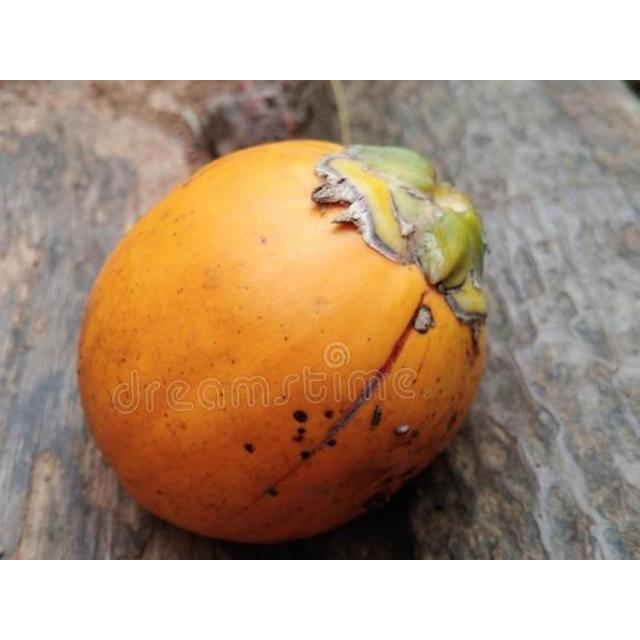good: (76, 138, 490, 547)
